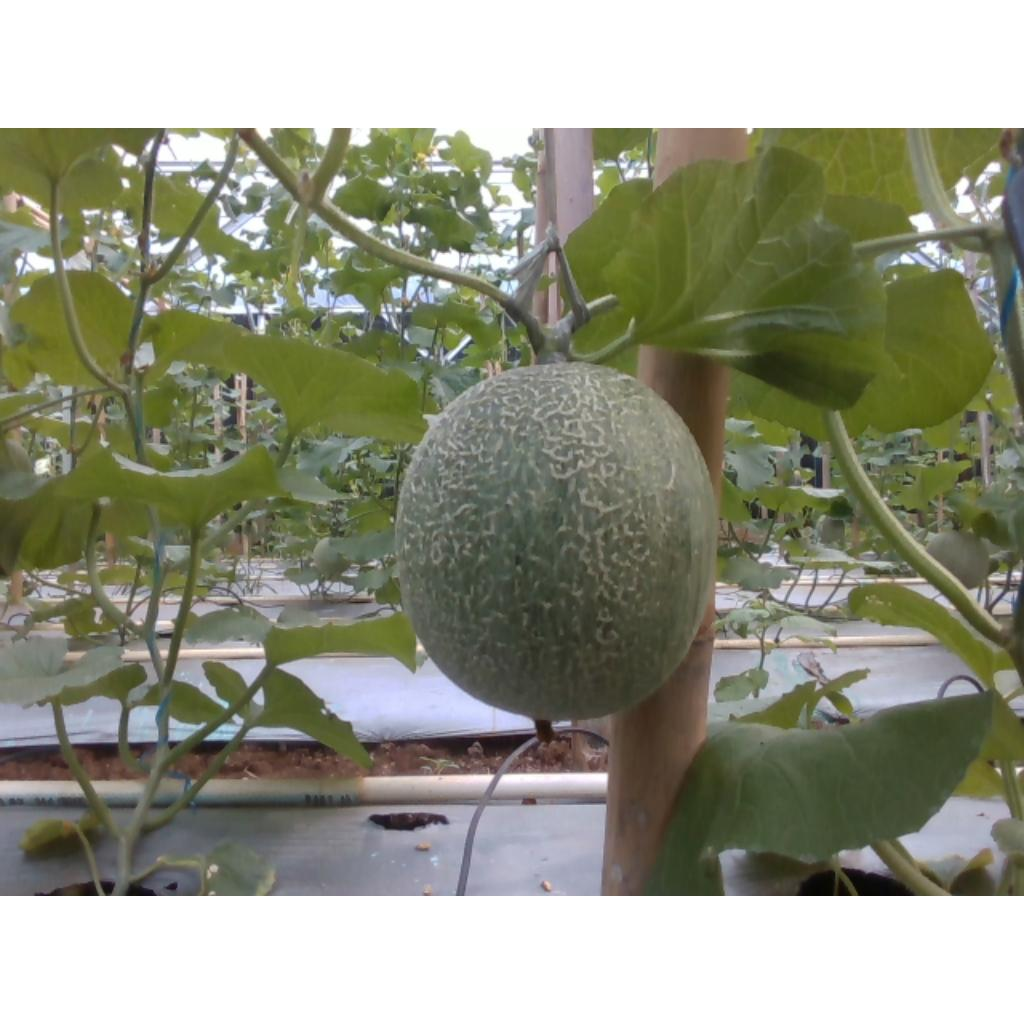melon: (397, 362, 718, 720)
